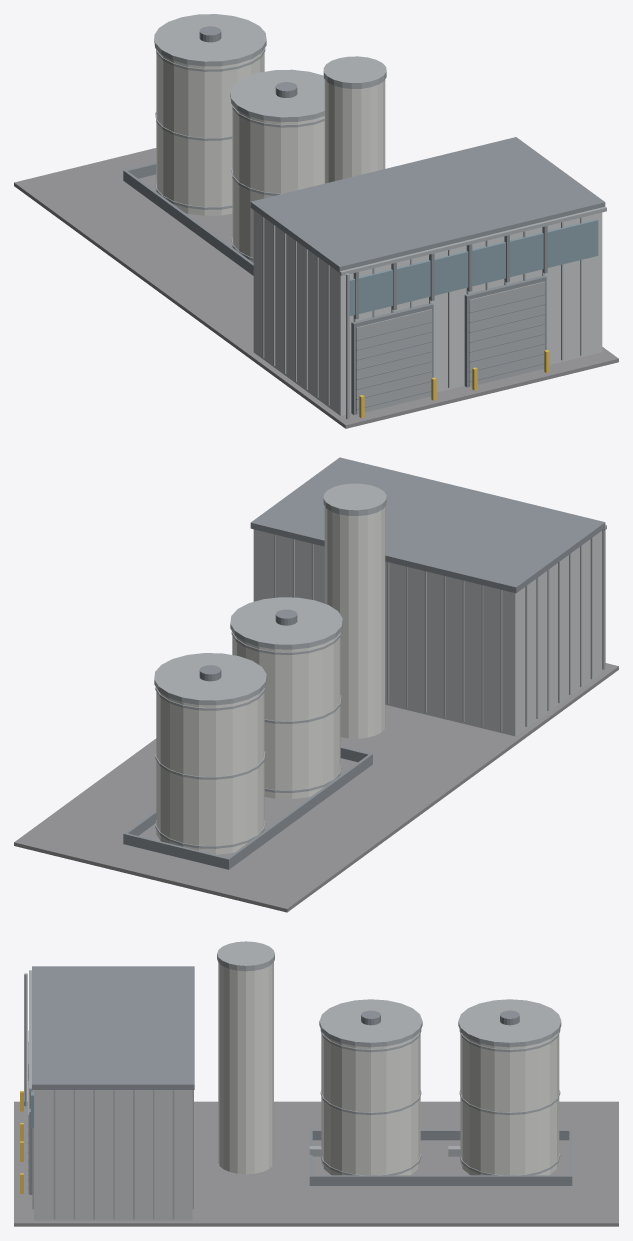
The model's file is industrial_2x4_c.glb.
3 views of the same model, one above another, from view 1: azimuth 30°, elevation 25°; view 2: azimuth 150°, elevation 25°; view 3: azimuth 270°, elevation 25° (orthographic). The views are drawn at different scales.
Parts seen in each view (by area): view 1: industrial_2x4_c_yard; view 2: industrial_2x4_c_yard; view 3: industrial_2x4_c_yard.
Part boxes in pixels (x1,y1,x2,y2): industrial_2x4_c_yard: [14, 14, 618, 428]; industrial_2x4_c_yard: [14, 457, 618, 912]; industrial_2x4_c_yard: [14, 941, 618, 1226].
Size of the model in its own units: 14.5 by 11.8 by 30.5.
